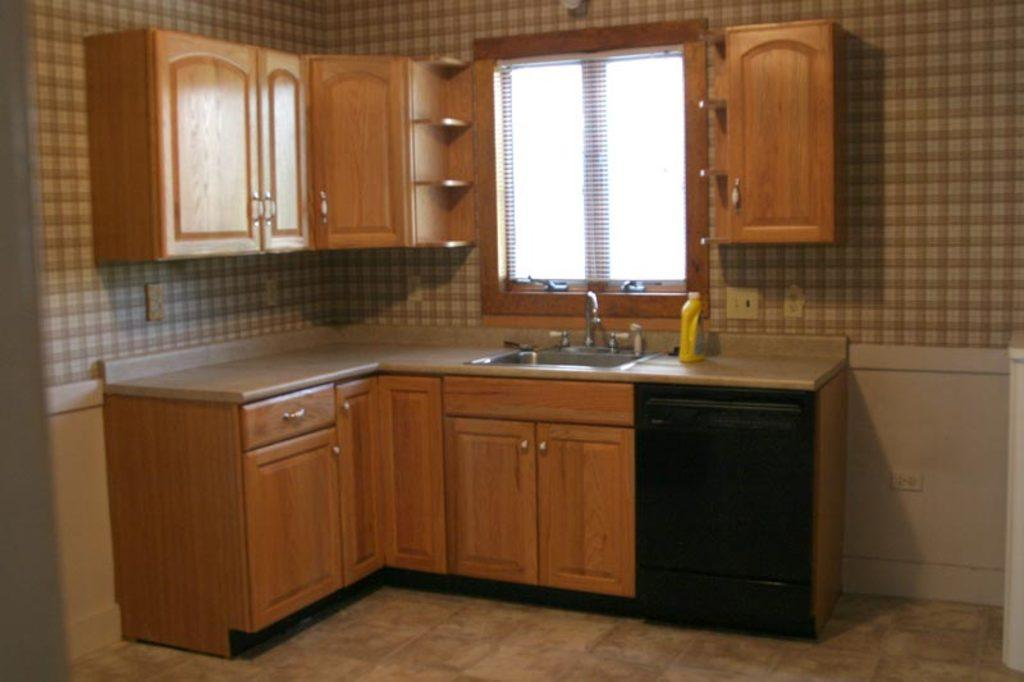cabinet_door: (160, 33, 266, 250), (720, 32, 830, 234), (311, 64, 408, 242), (543, 427, 633, 590), (447, 422, 539, 572), (248, 450, 340, 598), (332, 388, 386, 566), (256, 64, 306, 244), (246, 393, 336, 435)
handle: (729, 178, 745, 213), (316, 194, 330, 228), (286, 404, 310, 420), (265, 193, 276, 222), (252, 197, 262, 224)
